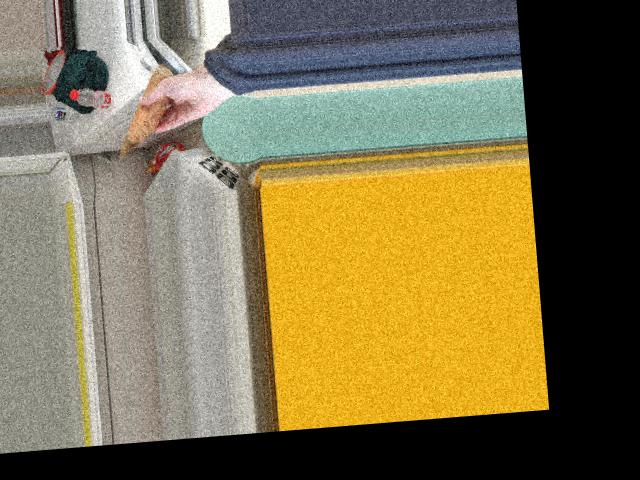sweet_potato: (121, 85, 171, 137)
